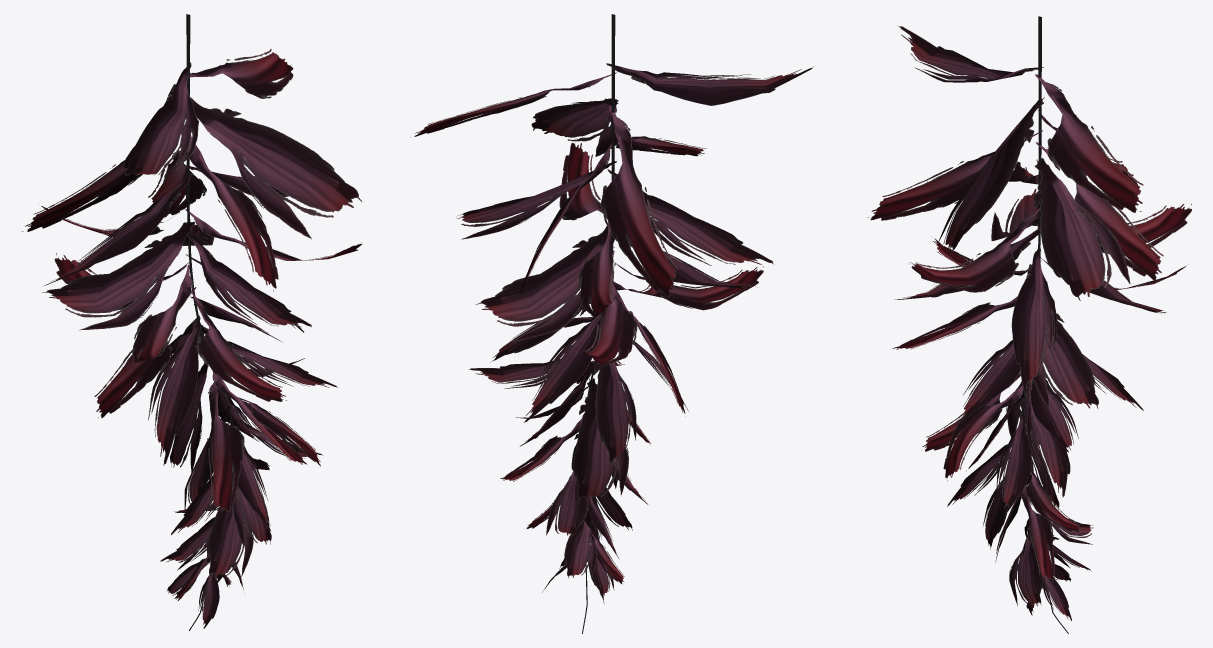
The model's file is BIO_VEG_Infected_Plant_01C.fbx.
3 renders of one model, left to right at view 1: azimuth 30°, elevation 25°; view 2: azimuth 150°, elevation 25°; view 3: azimuth 270°, elevation 25°, orthographic. The views are drawn at different scales.
Parts seen in each view (by area): view 1: BIO_VEG_Infected_Plant_01C; view 2: BIO_VEG_Infected_Plant_01C; view 3: BIO_VEG_Infected_Plant_01C.
Part boxes in pixels (x1,y1,x2,y2): BIO_VEG_Infected_Plant_01C: (21, 14, 361, 630); BIO_VEG_Infected_Plant_01C: (410, 14, 813, 633); BIO_VEG_Infected_Plant_01C: (867, 16, 1191, 633).
Size of the model in its own units: 91.95 by 167 by 83.93.
